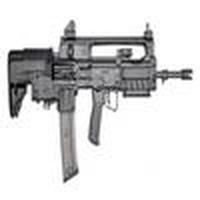gun: (3, 24, 200, 169)
